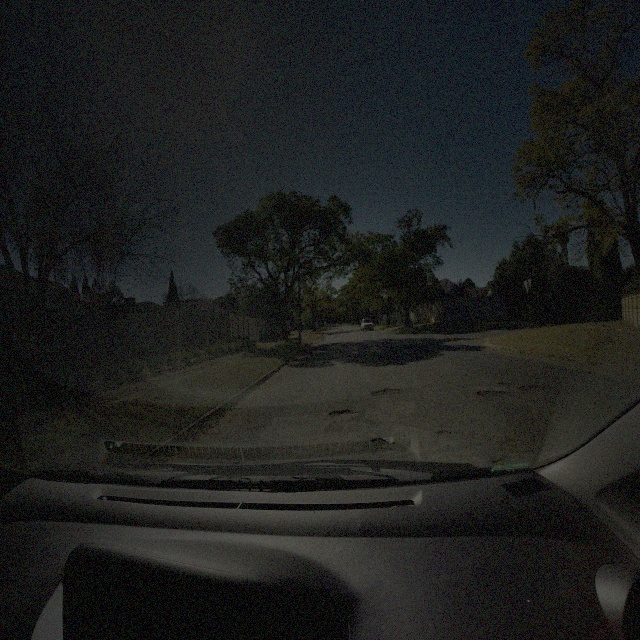pothole: (476, 388, 512, 399), (370, 436, 395, 449), (370, 388, 402, 396), (518, 384, 548, 391), (327, 409, 354, 416), (497, 381, 512, 388)
